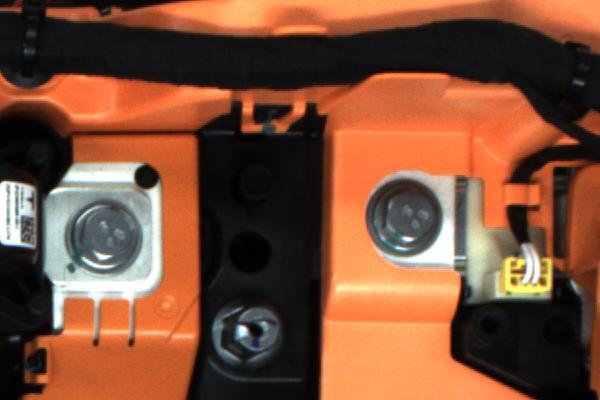nut_b: (359, 172, 446, 263), (58, 199, 147, 280)
